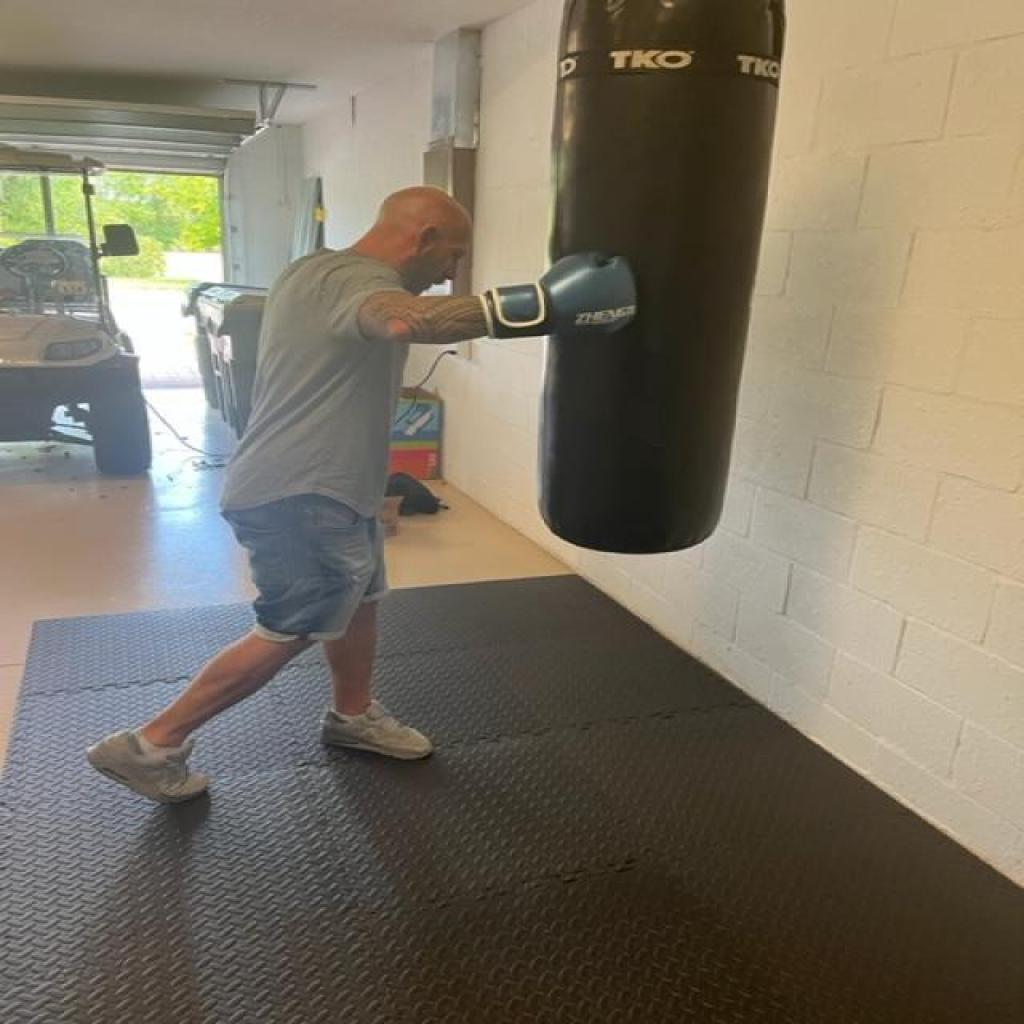hook: (218, 165, 668, 395)
